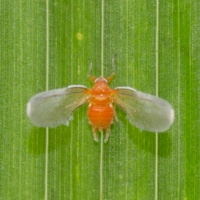insect: (26, 74, 174, 141)
